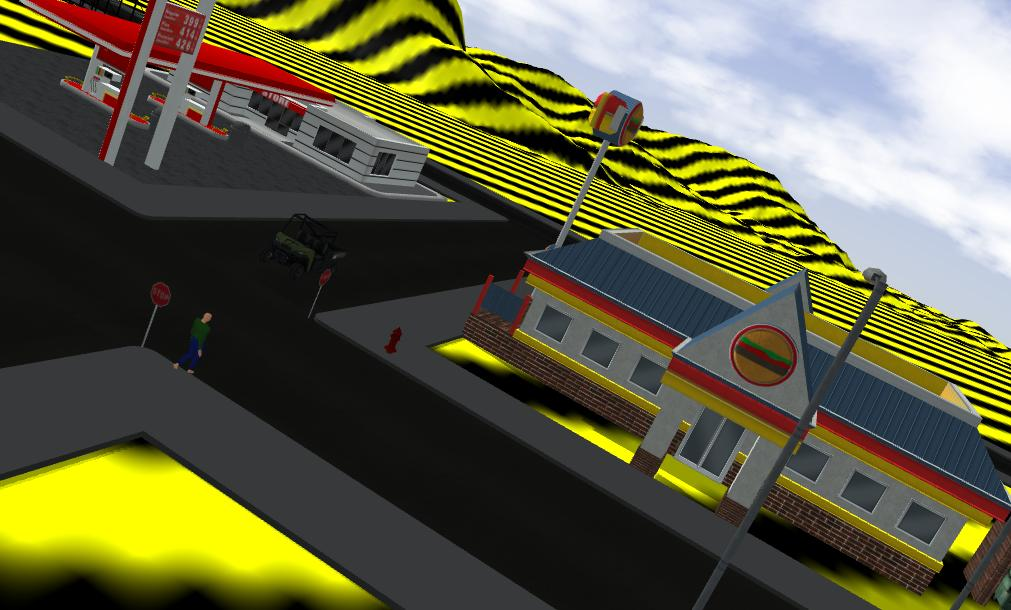car: (269, 204, 344, 263)
fire hydrant: (369, 325, 400, 365)
human: (186, 296, 217, 396)
street light: (693, 268, 875, 608)
street sign: (139, 272, 173, 366), (311, 257, 327, 321)
